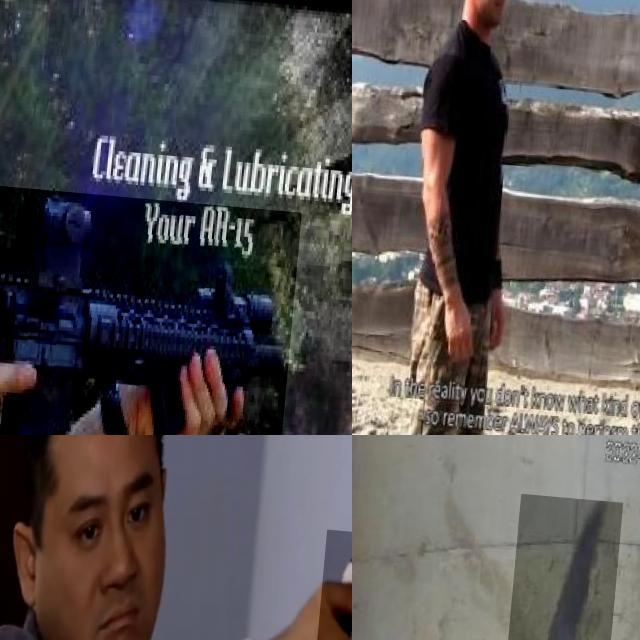-: (497, 486, 624, 640)
gun-knife-thesis - v11 Yolov5 augmented: (0, 164, 305, 435), (320, 519, 352, 640)
